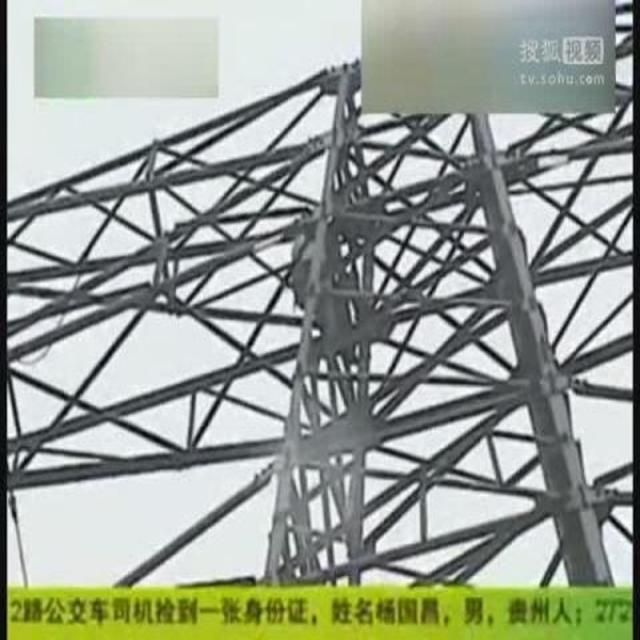non-critical vegetation: (20, 110, 632, 577)
